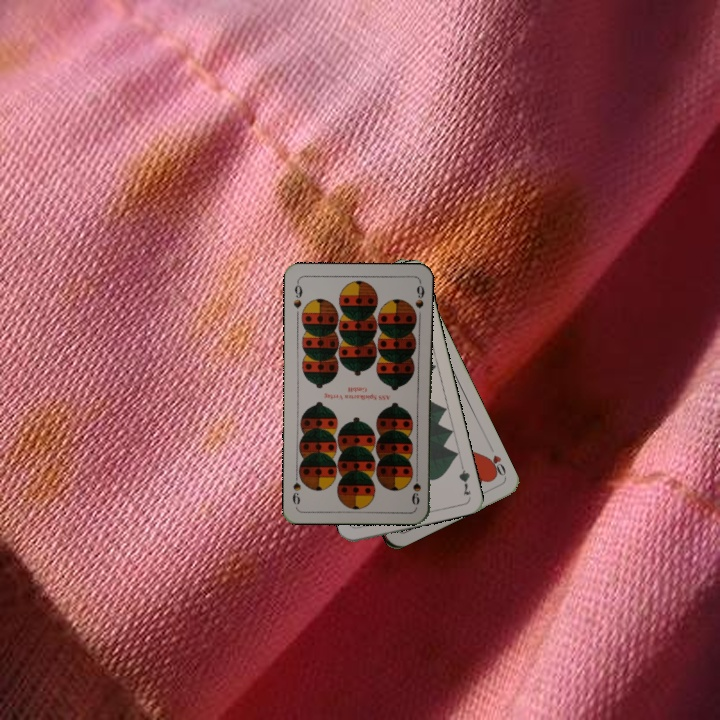G7: (455, 458, 474, 498)
HO: (482, 442, 509, 480)
S9: (408, 467, 424, 508), (289, 278, 305, 311)
